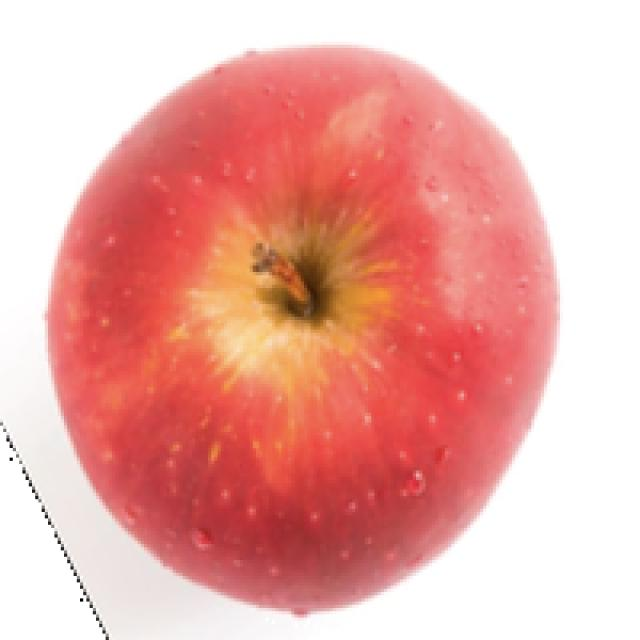apple: (38, 38, 563, 624)
